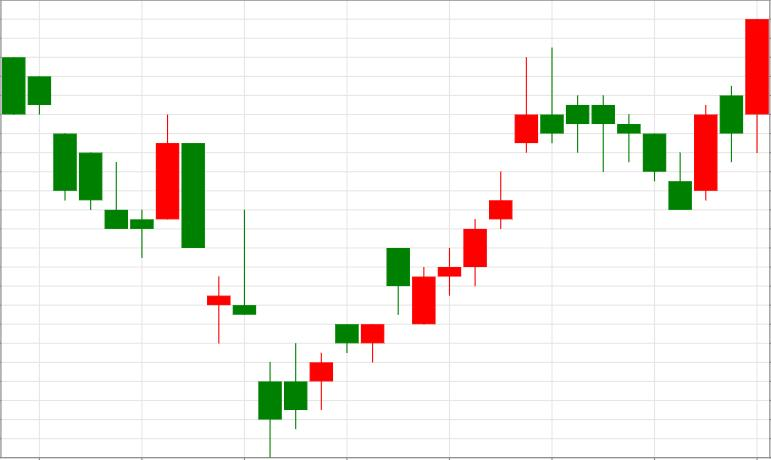shooting_star_fall: (310, 57, 537, 410)
